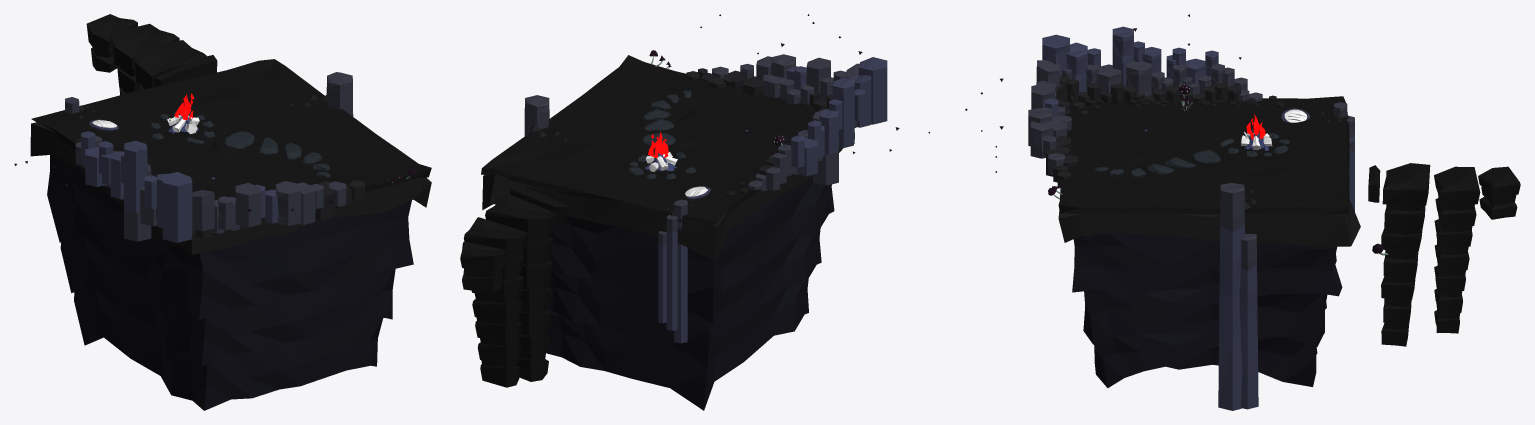
File: TerrainTest.FBX
The picture shows the model from 3 angles, left to right: view 1: azimuth 30°, elevation 25°; view 2: azimuth 150°, elevation 25°; view 3: azimuth 270°, elevation 25°; orthographic projection. The views are drawn at different scales.
Parts seen in each view (by area): view 1: Object012, Plane001, Cylinder030, Object005, Object006, GeoSphere019, Object011, Cylinder008; view 2: Object012, Plane001, Object005, Cylinder030, Object006, Object009, GeoSphere019, Object011; view 3: Object012, Plane001, Object005, Cylinder030, Object006, Object011, Object015, GeoSphere019, Object009.
Boxes of the visible parts, x1=… form: Object012: x1=47, y1=154, x2=413, y2=410; Plane001: x1=31, y1=59, x2=431, y2=200; Cylinder030: x1=75, y1=131, x2=364, y2=242; Object005: x1=86, y1=14, x2=217, y2=95; Object006: x1=30, y1=122, x2=431, y2=254; GeoSphere019: x1=223, y1=131, x2=321, y2=163; Object011: x1=326, y1=72, x2=353, y2=116; Cylinder008: x1=167, y1=115, x2=199, y2=134; Object012: x1=546, y1=176, x2=834, y2=410; Plane001: x1=481, y1=55, x2=819, y2=227; Object005: x1=460, y1=183, x2=567, y2=387; Cylinder030: x1=686, y1=54, x2=887, y2=193; Object006: x1=482, y1=132, x2=854, y2=260; Object009: x1=658, y1=199, x2=687, y2=343; GeoSphere019: x1=643, y1=100, x2=675, y2=146; Object011: x1=524, y1=95, x2=549, y2=135; Object012: x1=1072, y1=233, x2=1342, y2=387; Plane001: x1=1058, y1=96, x2=1349, y2=214; Object005: x1=1368, y1=163, x2=1520, y2=346; Cylinder030: x1=1028, y1=26, x2=1276, y2=185; Object006: x1=1058, y1=149, x2=1360, y2=247; Object011: x1=1218, y1=183, x2=1244, y2=410; Object015: x1=1239, y1=234, x2=1258, y2=409; GeoSphere019: x1=1129, y1=150, x2=1220, y2=177; Object009: x1=1334, y1=102, x2=1354, y2=211.
Bounding box in the file's own units: 1176 × 878 × 1787.
